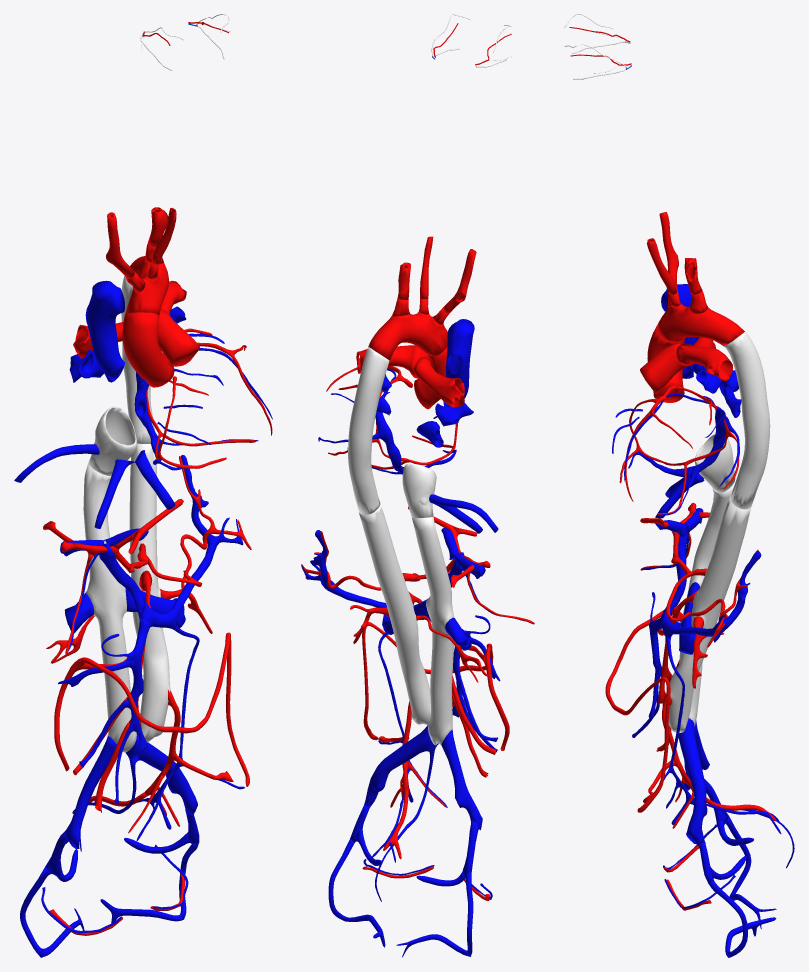
Rendered from vh_f_blood_vasculature-20.fbx.
3 views of the same model, side by side, from view 1: azimuth 30°, elevation 25°; view 2: azimuth 150°, elevation 25°; view 3: azimuth 270°, elevation 25° (orthographic). The views are drawn at different scales.
Visible parts, largest first — view 1: VH_F_inferior_vena_cava_b, VH_F_descending_aorta_b, VH_F_superior_vena_cava, VH_F_marginal_artery_of_Drummond, VH_F_ascending_aorta, VH_F_inferior_vena_cava_a, VH_F_splenic_vein, VH_F_aortic_arch, VH_F_left_common_iliac_vein, VH_F_pulmonary_trunk, VH_F_right_common_iliac_vein, VH_F_descending_aorta_a (+15 smaller); view 2: VH_F_descending_aorta_b, VH_F_inferior_vena_cava_b, VH_F_descending_aorta_a, VH_F_aortic_arch, VH_F_superior_vena_cava, VH_F_inferior_vena_cava_a, VH_F_left_common_iliac_vein, VH_F_marginal_artery_of_Drummond, VH_F_pulmonary_artery_R, VH_F_right_common_iliac_vein, VH_F_splenic_vein, VH_F_ascending_aorta (+6 smaller); view 3: VH_F_descending_aorta_b, VH_F_descending_aorta_a, VH_F_aortic_arch, VH_F_inferior_vena_cava_b, VH_F_left_common_iliac_vein, VH_F_marginal_artery_of_Drummond, VH_F_splenic_vein, VH_F_pulmonary_artery_L, VH_F_inferior_vena_cava_a, VH_F_pulmonary_trunk, VH_F_ascending_aorta, VH_F_splenic_artery (+11 smaller).
Boxes of the visible parts, left/top/right/bottom form: VH_F_inferior_vena_cava_b: left=83, top=462, right=136, bottom=752; VH_F_descending_aorta_b: left=129, top=443, right=170, bottom=742; VH_F_superior_vena_cava: left=85, top=280, right=124, bottom=382; VH_F_marginal_artery_of_Drummond: left=54, top=632, right=249, bottom=786; VH_F_ascending_aorta: left=122, top=312, right=174, bottom=387; VH_F_inferior_vena_cava_a: left=88, top=406, right=137, bottom=476; VH_F_splenic_vein: left=138, top=455, right=243, bottom=629; VH_F_aortic_arch: left=125, top=256, right=168, bottom=315; VH_F_left_common_iliac_vein: left=125, top=733, right=197, bottom=815; VH_F_pulmonary_trunk: left=158, top=309, right=199, bottom=366; VH_F_right_common_iliac_vein: left=65, top=736, right=116, bottom=848; VH_F_descending_aorta_a: left=121, top=276, right=155, bottom=443; VH_F_descending_aorta_b: left=359, top=504, right=430, bottom=725; VH_F_inferior_vena_cava_b: left=412, top=516, right=454, bottom=745; VH_F_descending_aorta_a: left=348, top=347, right=389, bottom=514; VH_F_aortic_arch: left=368, top=312, right=447, bottom=360; VH_F_superior_vena_cava: left=443, top=319, right=474, bottom=406; VH_F_inferior_vena_cava_a: left=402, top=463, right=436, bottom=517; VH_F_left_common_iliac_vein: left=364, top=724, right=438, bottom=805; VH_F_marginal_artery_of_Drummond: left=362, top=622, right=509, bottom=750; VH_F_pulmonary_artery_R: left=414, top=357, right=464, bottom=407; VH_F_right_common_iliac_vein: left=441, top=729, right=482, bottom=830; VH_F_splenic_vein: left=301, top=530, right=386, bottom=607; VH_F_ascending_aorta: left=414, top=347, right=447, bottom=409; VH_F_descending_aorta_b: left=668, top=497, right=751, bottom=732; VH_F_descending_aorta_a: left=723, top=332, right=770, bottom=509; VH_F_aortic_arch: left=657, top=303, right=744, bottom=345; VH_F_inferior_vena_cava_b: left=679, top=478, right=735, bottom=726; VH_F_left_common_iliac_vein: left=678, top=718, right=707, bottom=843; VH_F_marginal_artery_of_Drummond: left=605, top=610, right=682, bottom=812; VH_F_splenic_vein: left=660, top=551, right=761, bottom=642; VH_F_pulmonary_artery_L: left=676, top=343, right=732, bottom=381; VH_F_inferior_vena_cava_a: left=695, top=434, right=735, bottom=492; VH_F_pulmonary_trunk: left=640, top=343, right=694, bottom=394; VH_F_ascending_aorta: left=647, top=324, right=685, bottom=402; VH_F_splenic_artery: left=666, top=549, right=758, bottom=647.
Bounding box in the file's own units: 19.26 × 79.89 × 18.47.
